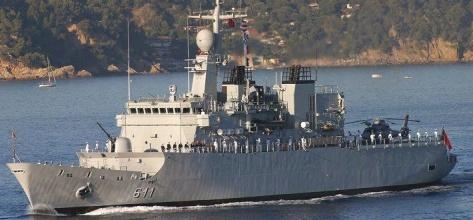warship: (2, 6, 459, 211)
